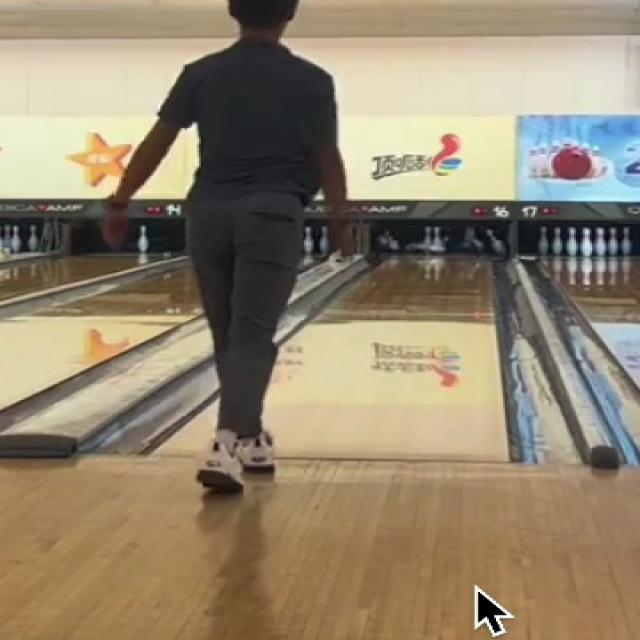alley: (263, 256, 505, 460)
balls: (460, 241, 478, 255)
bottle: (370, 223, 508, 253)
